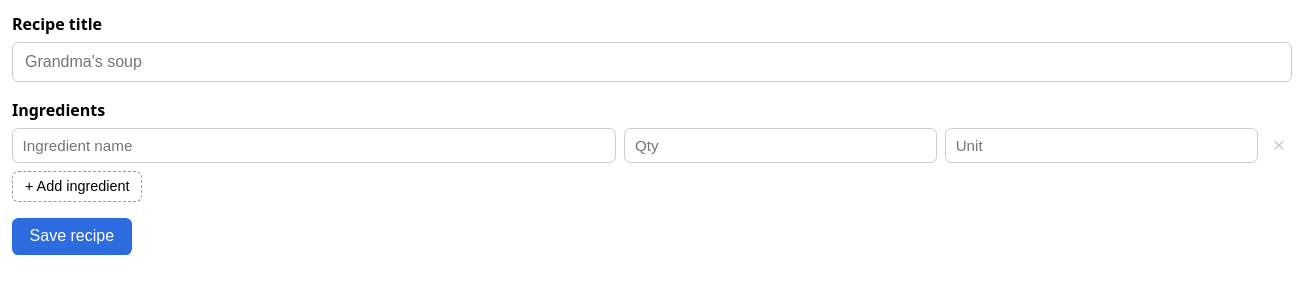
shows an error message when saving fails
This screenshot has width=1304, height=302.
Type "Soup" into the field labelled "Recipe title" at point(652, 62), box 12,42 -> 1292,82
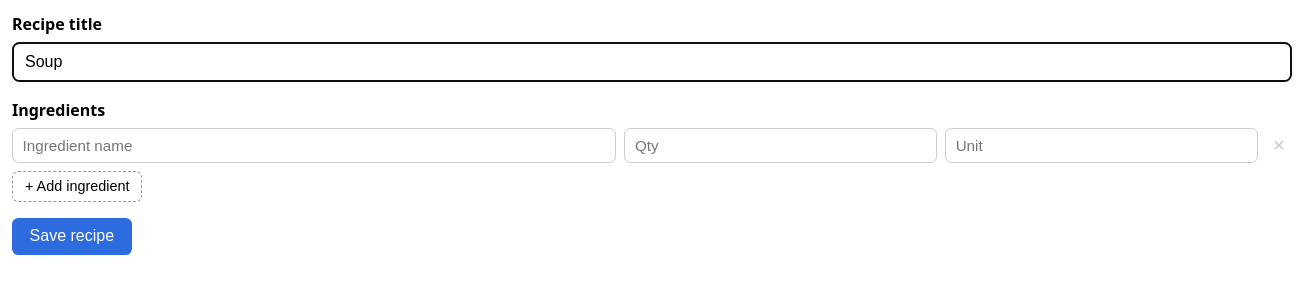
Type "Water" into the field named "ingredient 1 name" at point(314, 146), box 12,128 -> 616,163
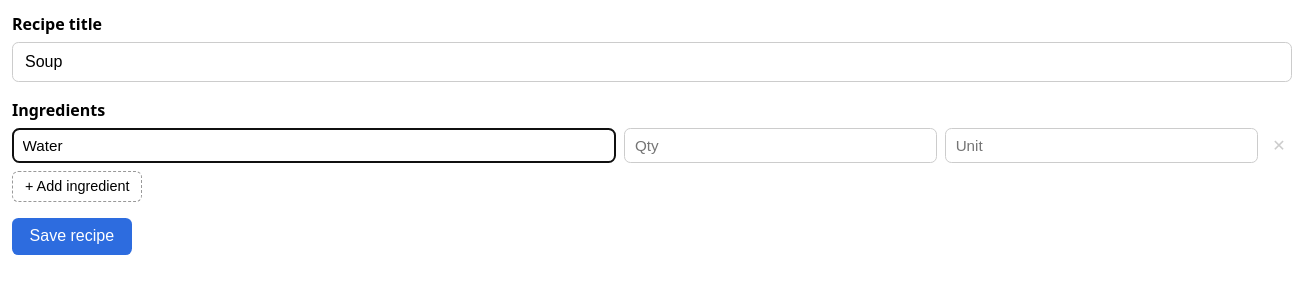
Click the button "Save recipe" at point(72, 236), box 12,218 -> 132,255
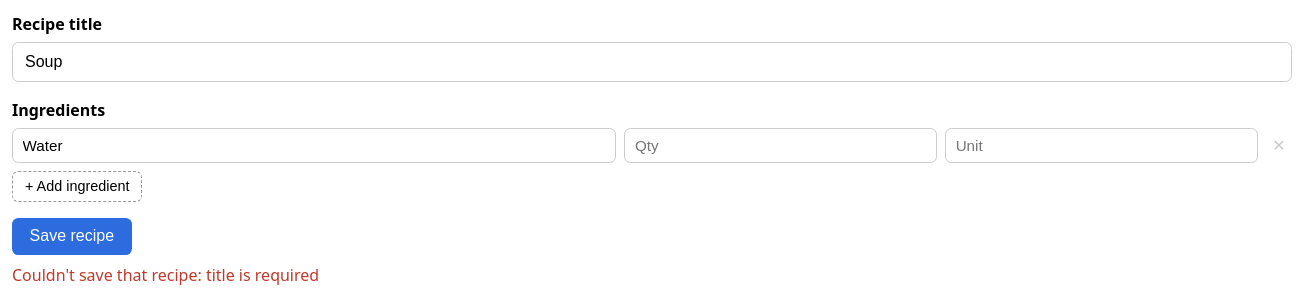
Now the text "Couldn't save that recipe: title is required" is shown, box 12,264 -> 319,286
